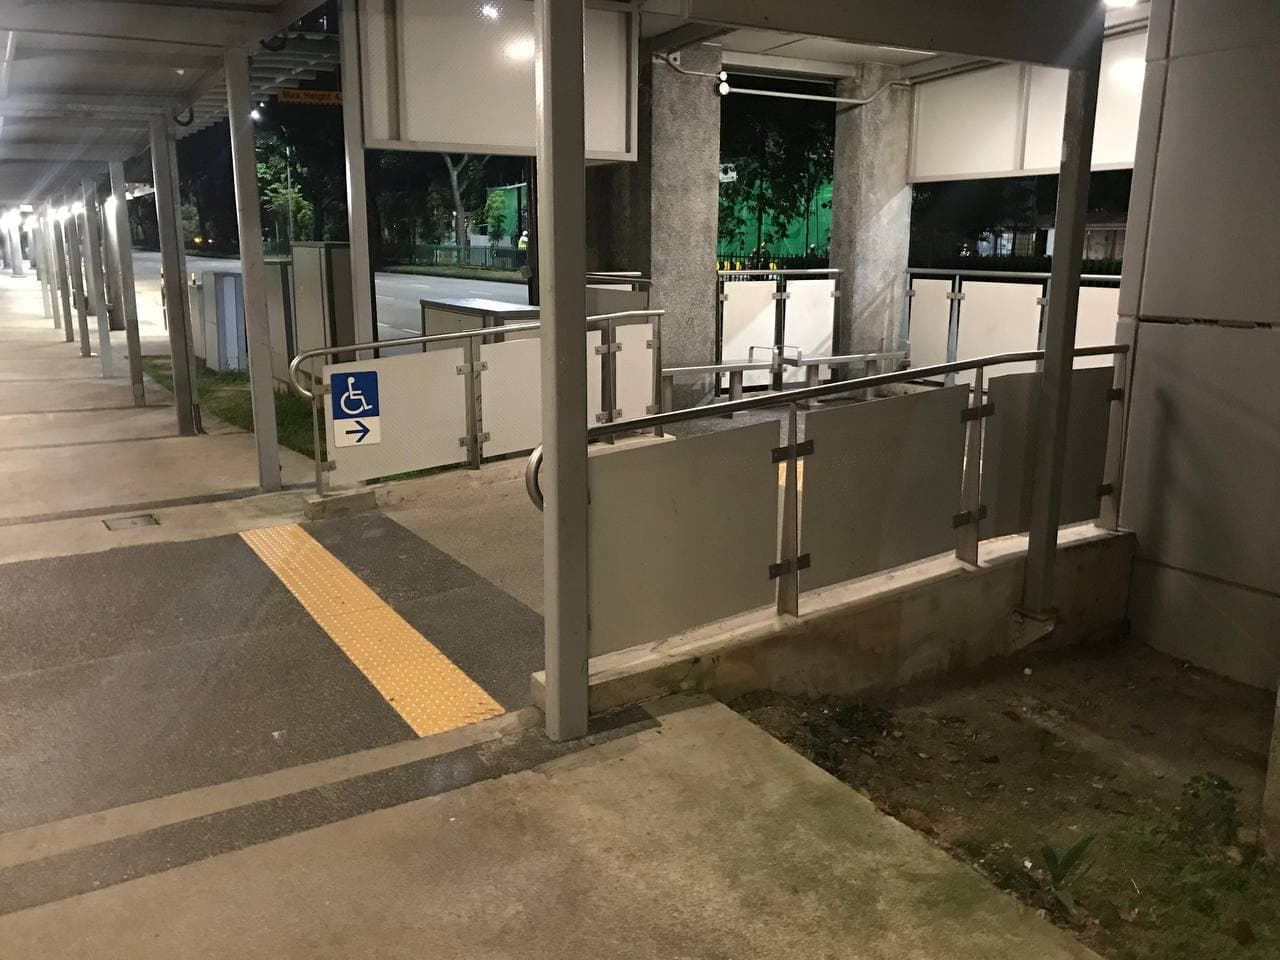slopes: (246, 288, 1118, 714)
